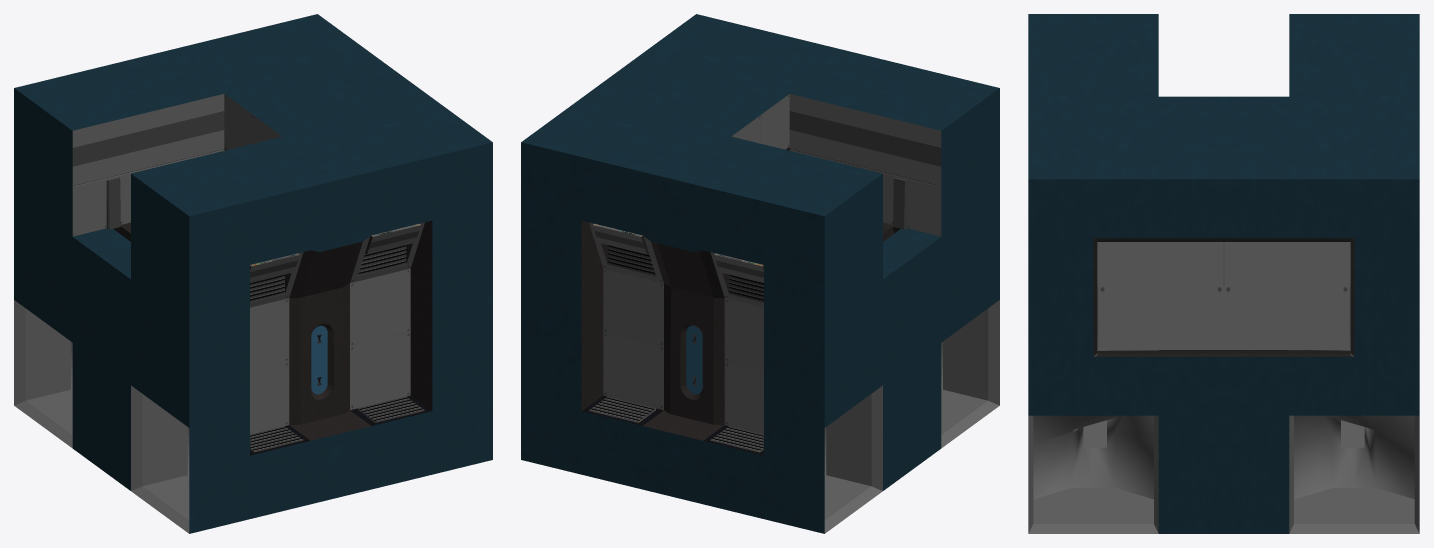
The model's file is Body.fbx.
The picture shows the model from 3 angles, left to right: view 1: azimuth 30°, elevation 25°; view 2: azimuth 150°, elevation 25°; view 3: azimuth 270°, elevation 25°; orthographic projection. The views are drawn at different scales.
Parts seen in each view (by area): view 1: Cube, Cube.012; view 2: Cube, Cube.012; view 3: Cube.
Boxes of the visible parts, <box> form: Cube: <box>14,14,492,533</box>; Cube.012: <box>14,194,159,406</box>; Cube: <box>521,14,999,533</box>; Cube.012: <box>778,215,970,427</box>; Cube: <box>1028,14,1419,533</box>.
Size of the model in its own units: 800 by 800 by 800.
